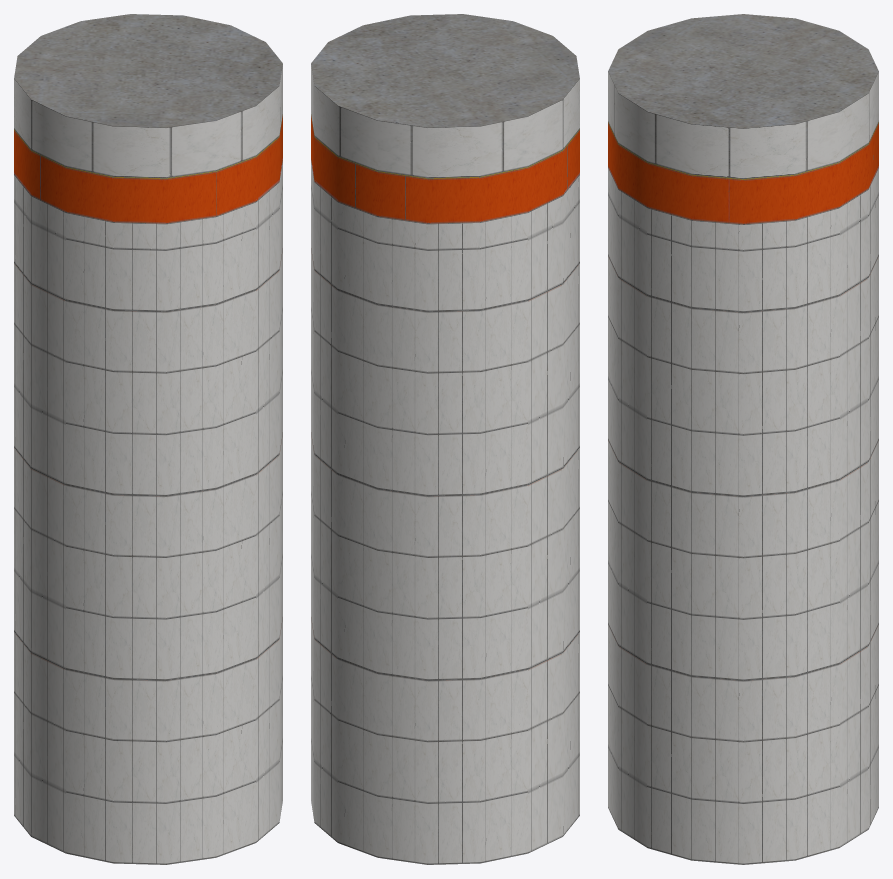
File: Post_2.fbx
3 views of the same model, side by side, from view 1: azimuth 30°, elevation 25°; view 2: azimuth 150°, elevation 25°; view 3: azimuth 270°, elevation 25° (orthographic).
Visible parts, largest first — view 1: Post_2; view 2: Post_2; view 3: Post_2.
Boxes of the visible parts, x1,y1,x2,y2 form: Post_2: (14,14,282,864); Post_2: (311,14,579,864); Post_2: (608,14,878,864).
Size of the model in its own units: 1 by 3 by 1.
